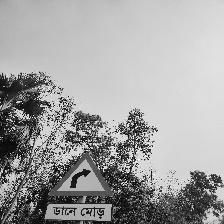Right-turn: (45, 153, 114, 223)
